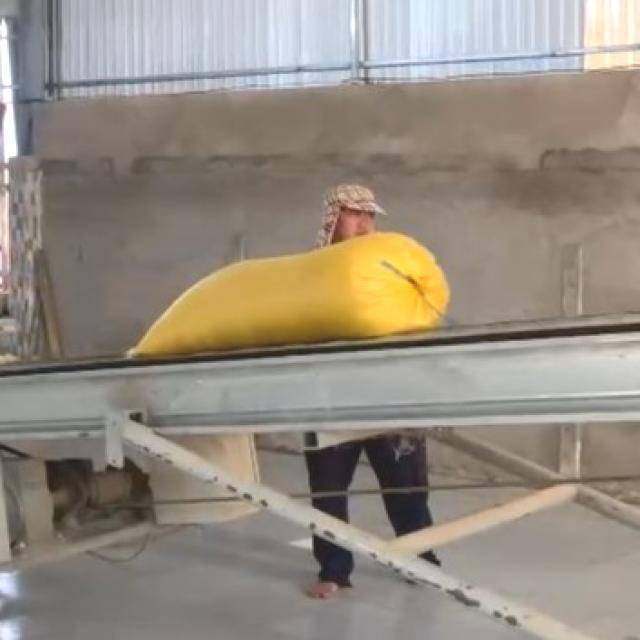gunny_bag: (127, 232, 450, 357)
